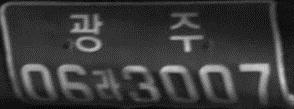0: (198, 63, 238, 109), (159, 64, 197, 104), (20, 62, 56, 103)
3: (122, 64, 157, 104)
6: (57, 63, 92, 103)
7: (239, 63, 271, 105)
광주_D: (69, 11, 203, 53)
라: (94, 68, 121, 103)
